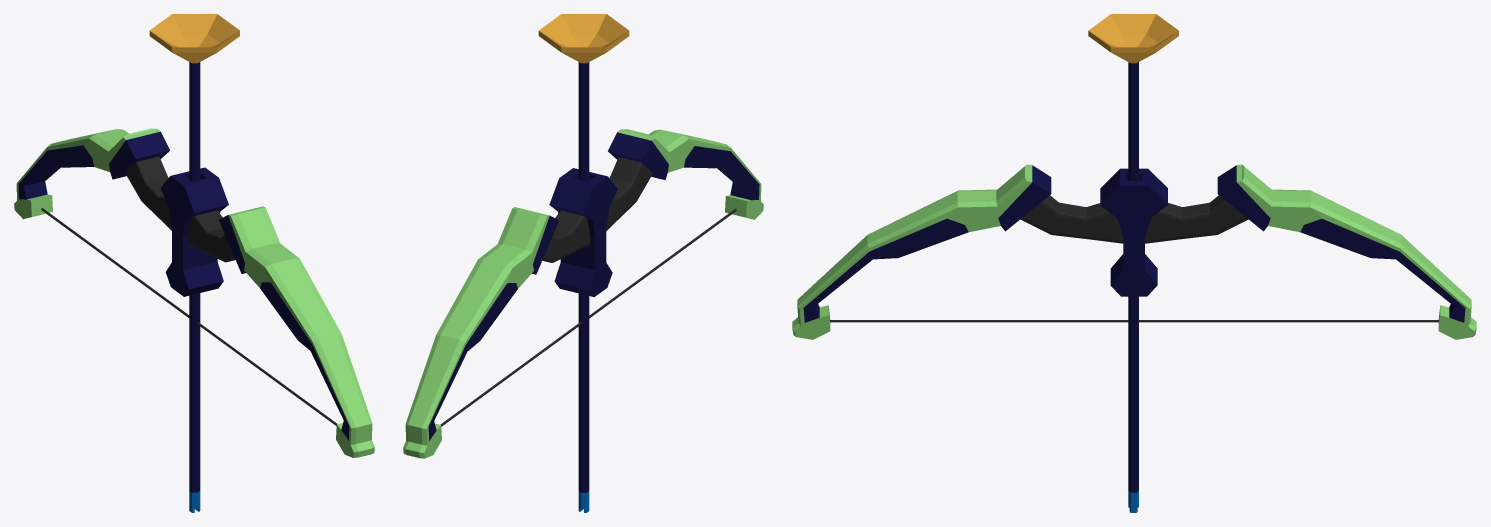
Rendered from Arc.fbx.
The picture shows the model from 3 angles, left to right: view 1: azimuth 30°, elevation 25°; view 2: azimuth 150°, elevation 25°; view 3: azimuth 270°, elevation 25°; orthographic projection.
Parts seen in each view (by area): view 1: Arc; view 2: Arc; view 3: Arc.
Boxes of the visible parts, box(x1,y1,x2,y2) form: Arc: box(14, 14, 374, 512); Arc: box(403, 14, 763, 512); Arc: box(792, 14, 1476, 512).
Bounding box in the file's own units: 5.81 × 39.23 × 50.64.
